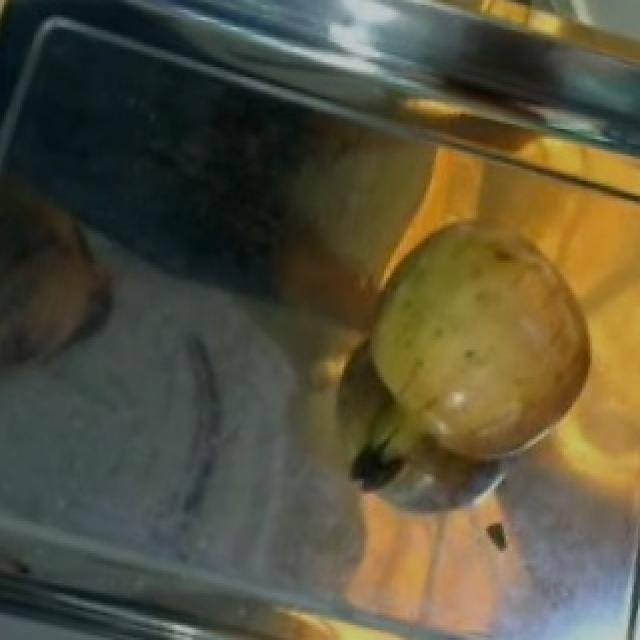fruit: (334, 0, 556, 40)
